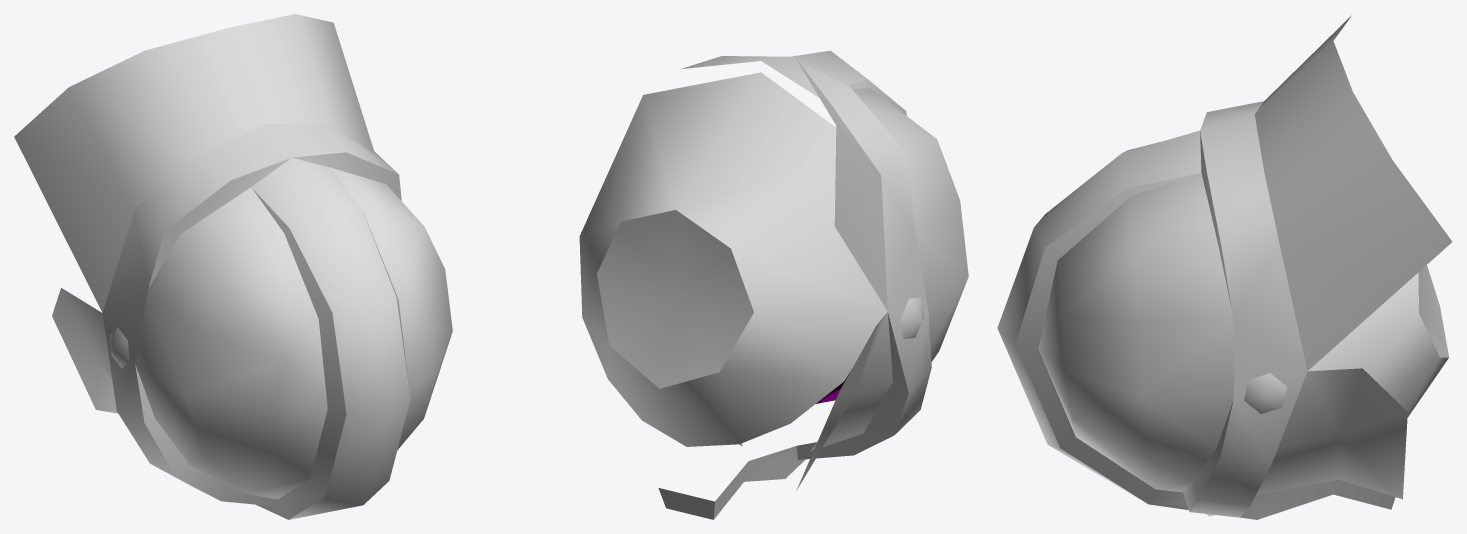
The picture shows the model from 3 angles, left to right: view 1: azimuth 30°, elevation 25°; view 2: azimuth 150°, elevation 25°; view 3: azimuth 270°, elevation 25°; orthographic projection. The views are drawn at different scales.
Visible parts, largest first — view 1: raider.model-Mesh[0]; view 2: raider.model-Mesh[0]; view 3: raider.model-Mesh[0].
Part boxes in pixels (x1,y1,x2,y2): raider.model-Mesh[0]: [14, 14, 452, 519]; raider.model-Mesh[0]: [579, 50, 968, 519]; raider.model-Mesh[0]: [997, 15, 1452, 519].
Bounding box in the file's own units: 0.4837 × 0.6492 × 0.5632.
Materials: 2 (1 with a texture image).
